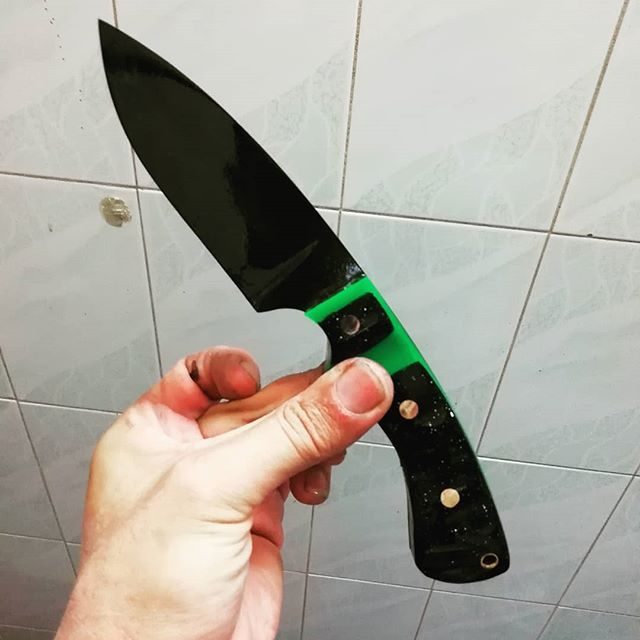knife: (99, 19, 509, 584)
